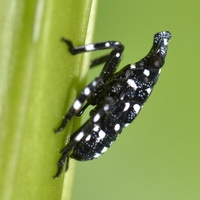insect: (55, 31, 170, 176)
